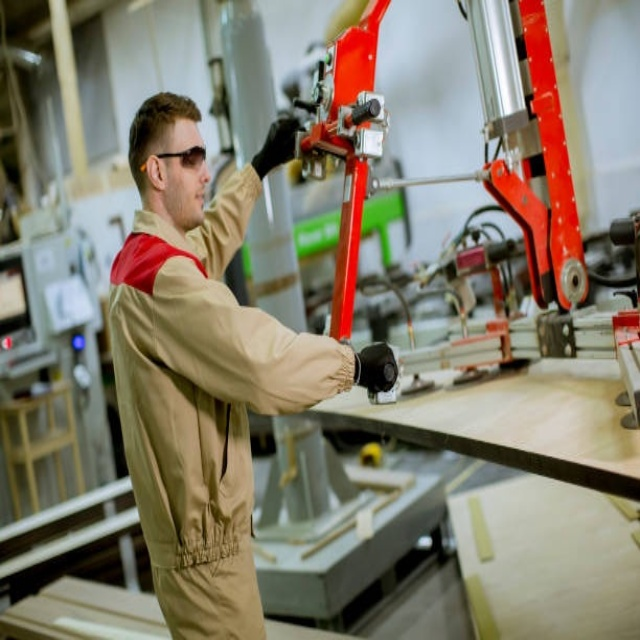Gafas: (146, 145, 206, 172)
Guantes: (251, 116, 303, 181), (354, 341, 401, 395)
Sin_mascara: (181, 182, 207, 218)
